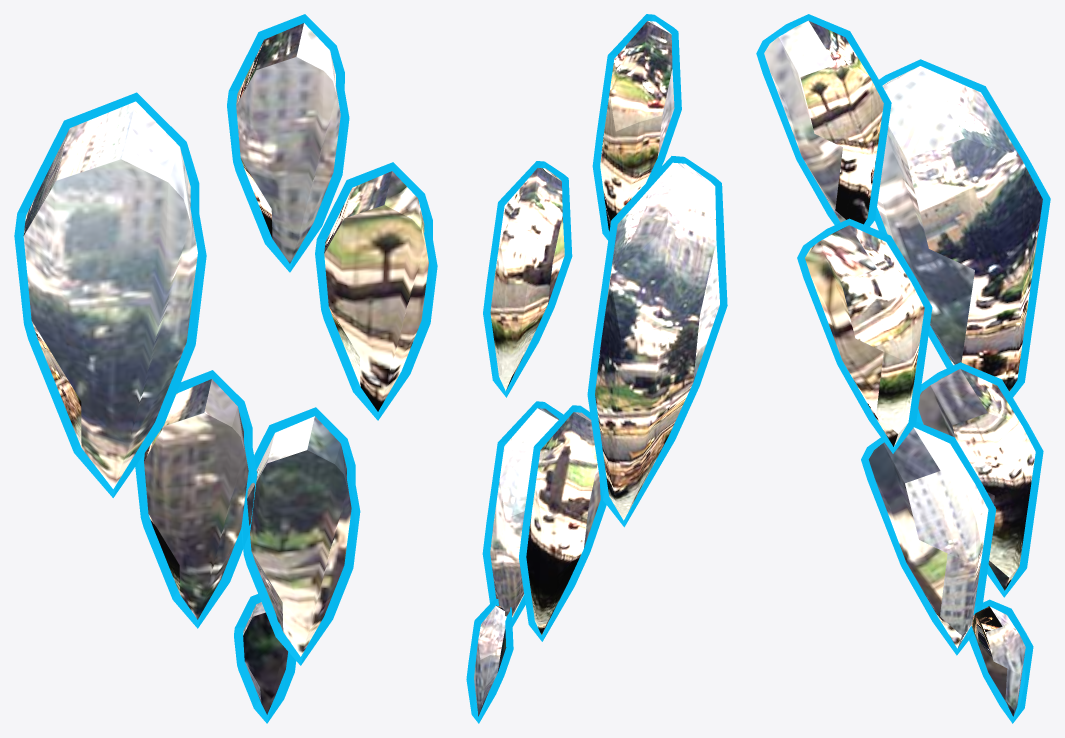
The model's file is Gentrification_in_Cairo.glb.
The picture shows the model from 3 angles, left to right: view 1: azimuth 30°, elevation 25°; view 2: azimuth 150°, elevation 25°; view 3: azimuth 270°, elevation 25°; orthographic projection. The views are drawn at different scales.
Parts seen in each view (by area): view 1: Dr. Yasser Elsheshtawy.001; view 2: Dr. Yasser Elsheshtawy.001; view 3: Dr. Yasser Elsheshtawy.001.
Boxes of the visible parts, bbox=[...] form: Dr. Yasser Elsheshtawy.001: bbox=[14, 14, 437, 723]; Dr. Yasser Elsheshtawy.001: bbox=[466, 14, 727, 723]; Dr. Yasser Elsheshtawy.001: bbox=[756, 14, 1050, 723].
Bounding box in the file's own units: 2.04 × 4.77 × 1.88.
2 materials, 1 textured.
